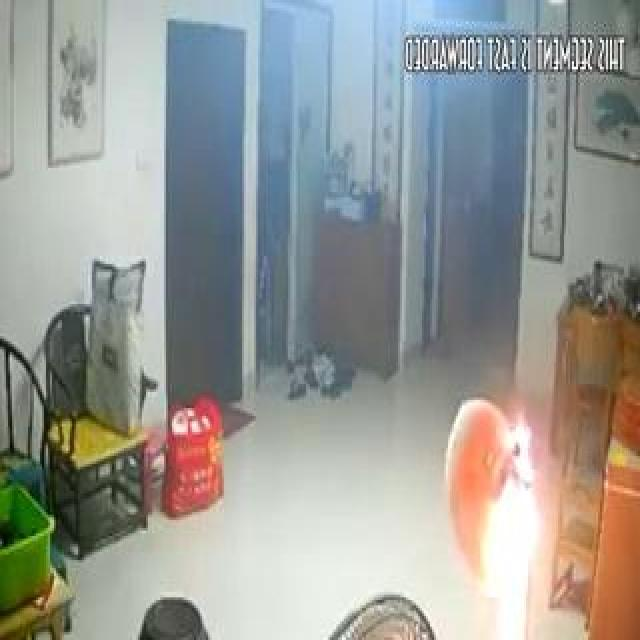Fire: (467, 356, 539, 636)
